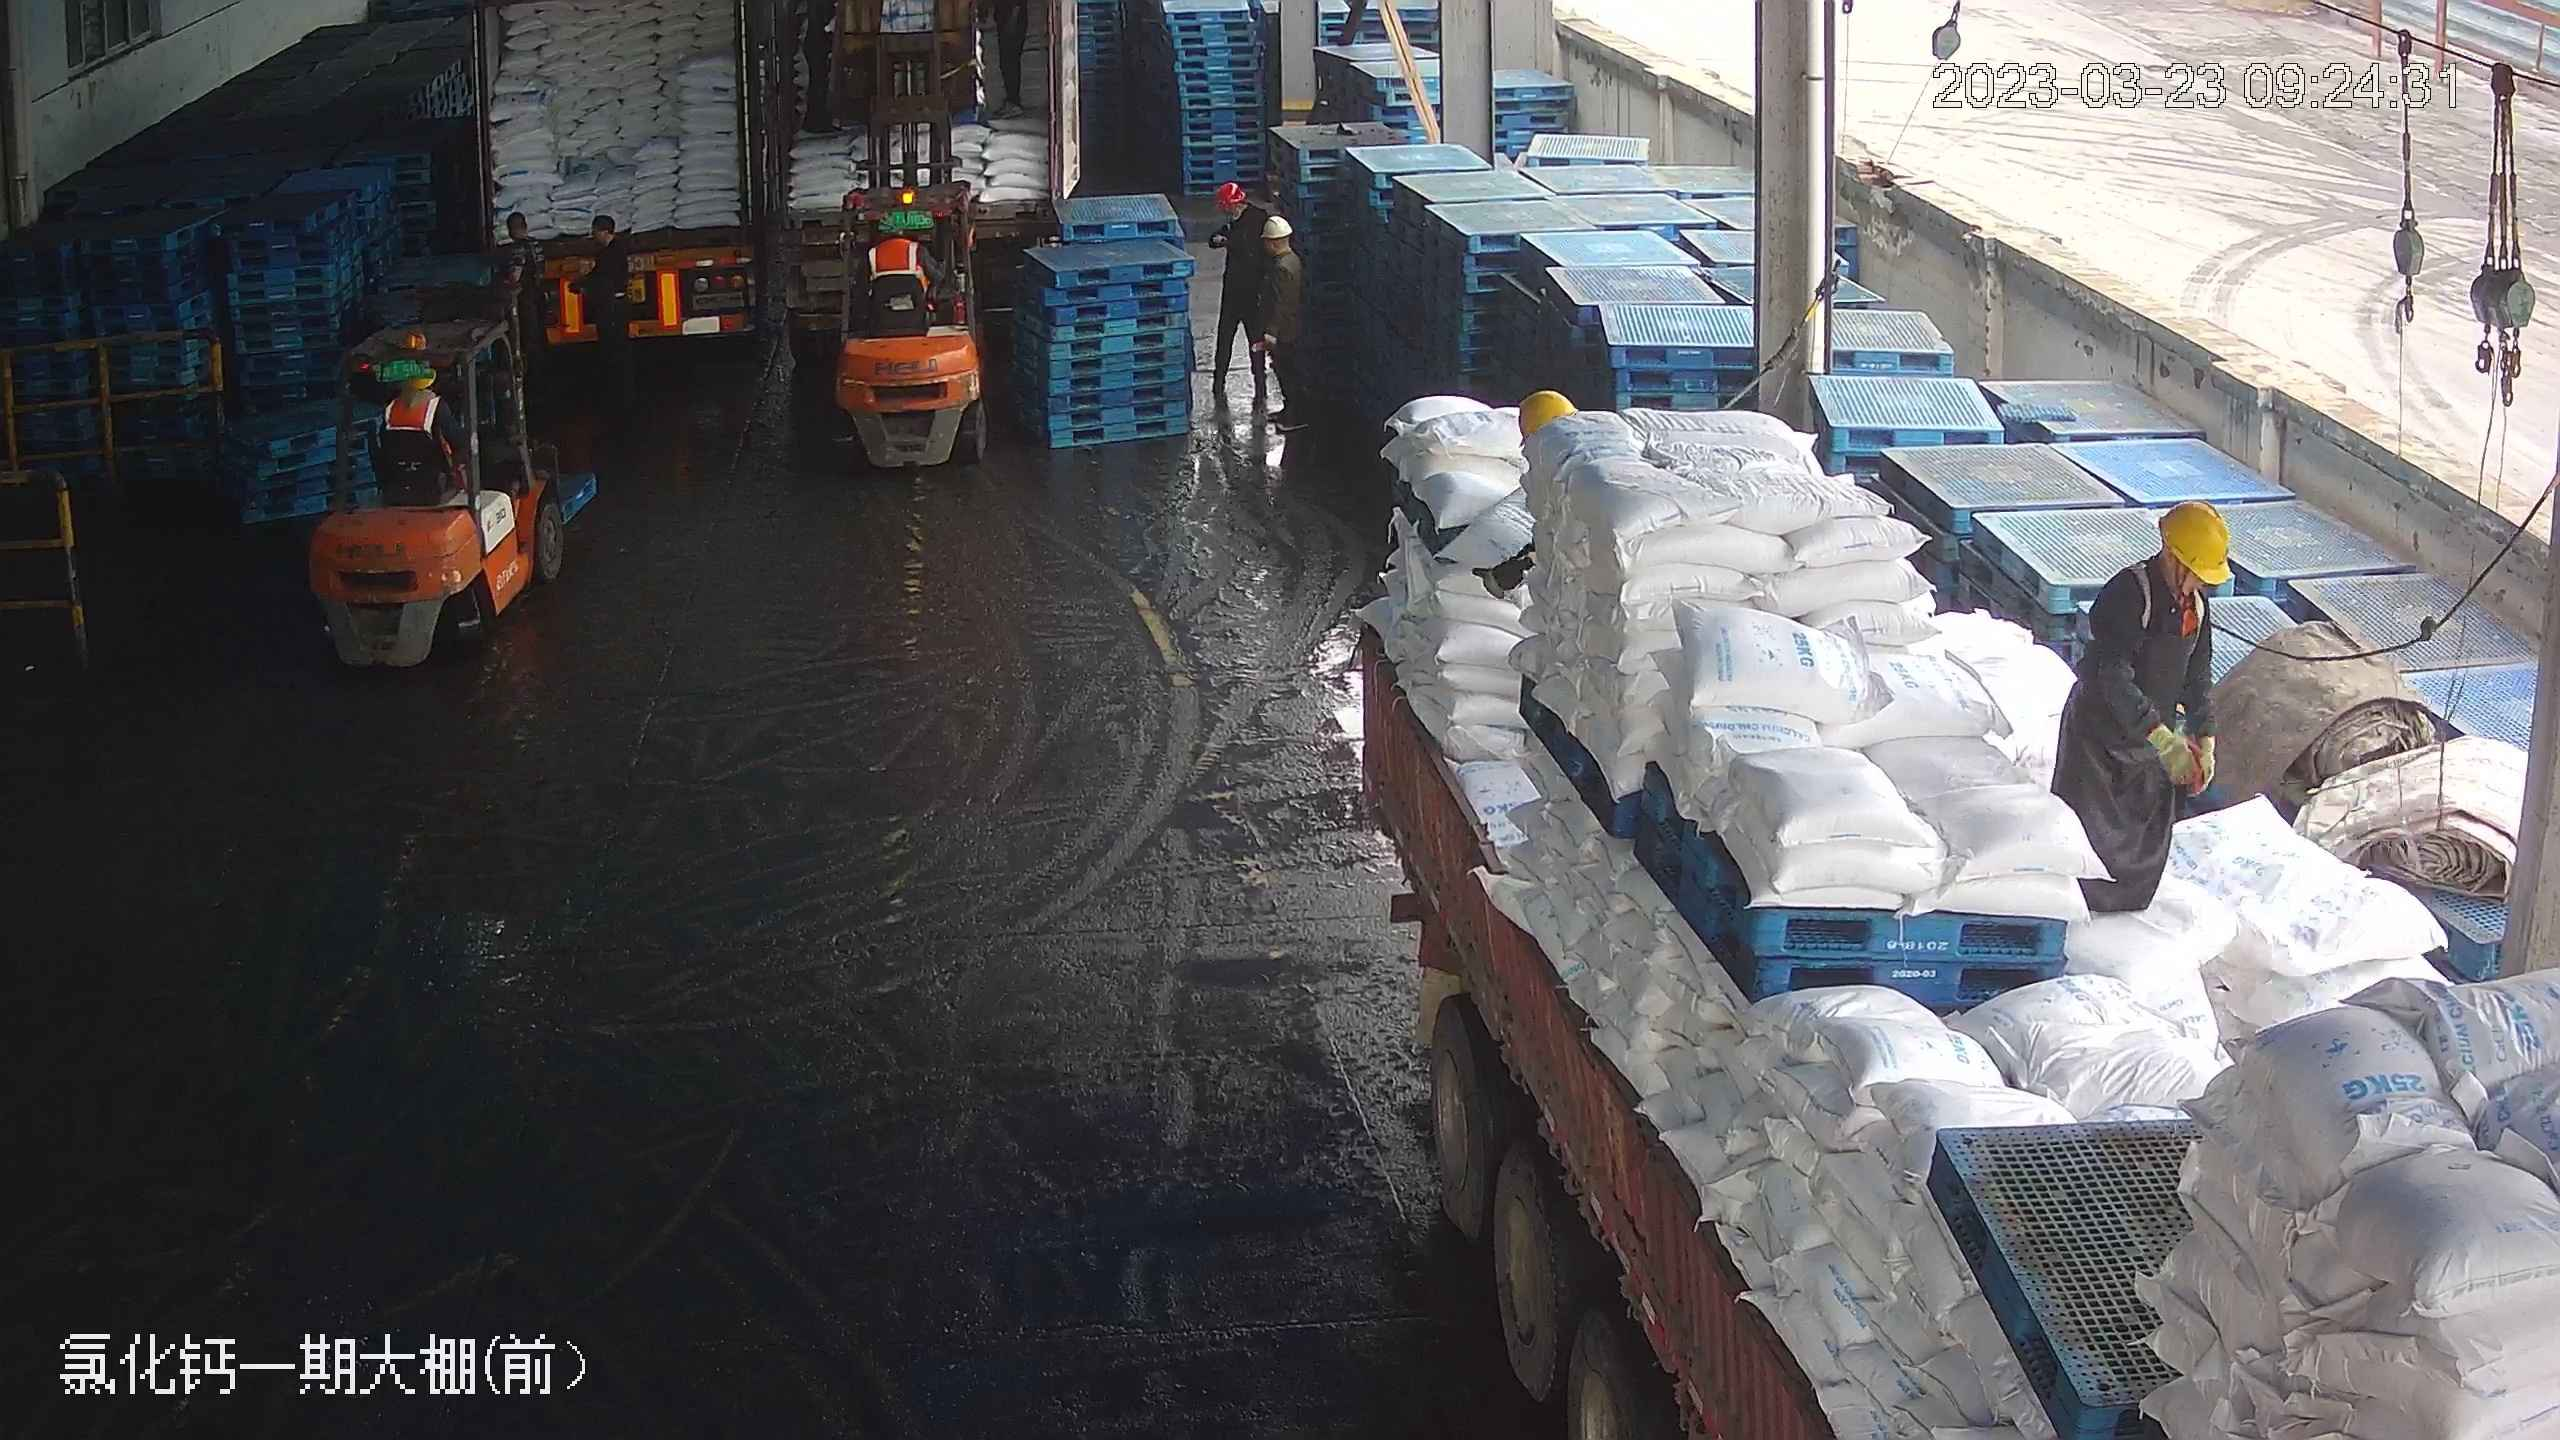belt: (2128, 556, 2208, 641)
head: (2083, 498, 2231, 632), (582, 212, 631, 288), (498, 208, 549, 279), (1211, 179, 1262, 247), (1253, 208, 1297, 278)
helmet: (2153, 495, 2233, 585), (1516, 387, 1579, 436), (1260, 209, 1291, 237), (1213, 178, 1245, 202)
people: (2045, 497, 2228, 921), (1207, 183, 1267, 414), (1247, 201, 1297, 426), (571, 212, 635, 344), (499, 212, 554, 364)
truck: (1328, 168, 2535, 1440), (445, 1, 806, 352)
